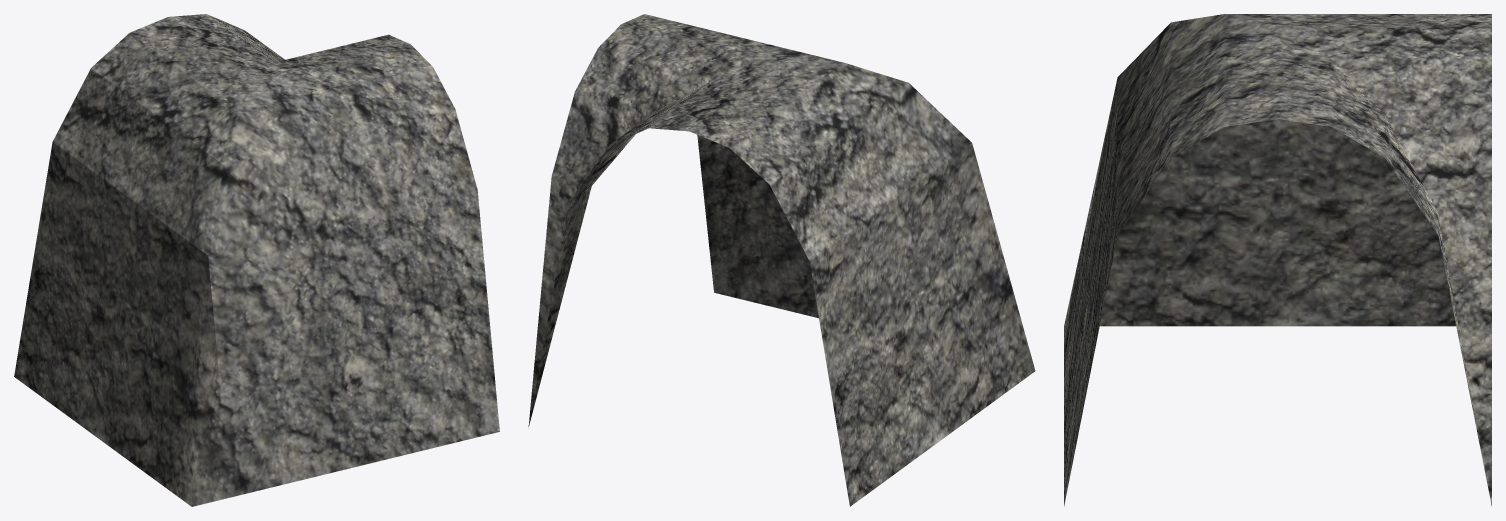
Rendered from Stone2a.obj.
3 renders of one model, left to right at view 1: azimuth 30°, elevation 25°; view 2: azimuth 150°, elevation 25°; view 3: azimuth 270°, elevation 25°, orthographic. The views are drawn at different scales.
Visible parts, largest first — view 1: Grid_Grid.009_Grid_Grid.031; view 2: Grid_Grid.009_Grid_Grid.031; view 3: Grid_Grid.009_Grid_Grid.031.
Part boxes in pixels (x1=…): Grid_Grid.009_Grid_Grid.031: x1=14, y1=14, x2=499, y2=506; Grid_Grid.009_Grid_Grid.031: x1=528, y1=14, x2=1035, y2=506; Grid_Grid.009_Grid_Grid.031: x1=1064, y1=14, x2=1491, y2=506.
Bounding box in the file's own units: 1 × 1 × 1.
1 material, 1 textured.
